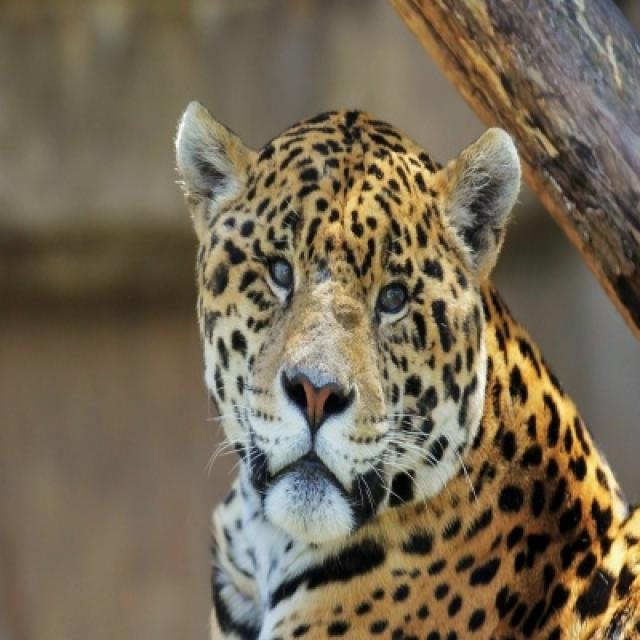Jaguar: (173, 101, 638, 638)
